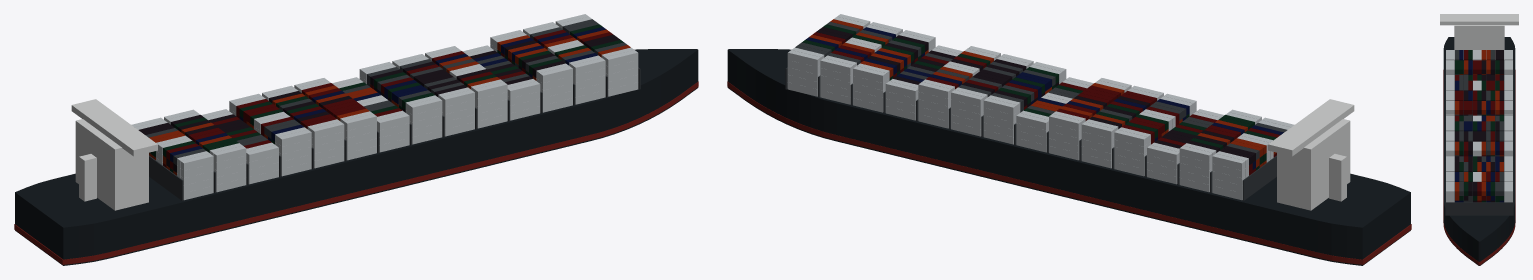
The model's file is ship.glb.
3 views of the same model, side by side, from view 1: azimuth 30°, elevation 25°; view 2: azimuth 150°, elevation 25°; view 3: azimuth 270°, elevation 25° (orthographic). The views are drawn at different scales.
Parts seen in each view (by area): view 1: ship; view 2: ship; view 3: ship.
Boxes of the visible parts, x1,y1,x2,y2 form: ship: (14, 14, 698, 265); ship: (727, 14, 1411, 265); ship: (1440, 14, 1518, 265).
Size of the model in its own units: 271 by 41.18 by 43.99.
